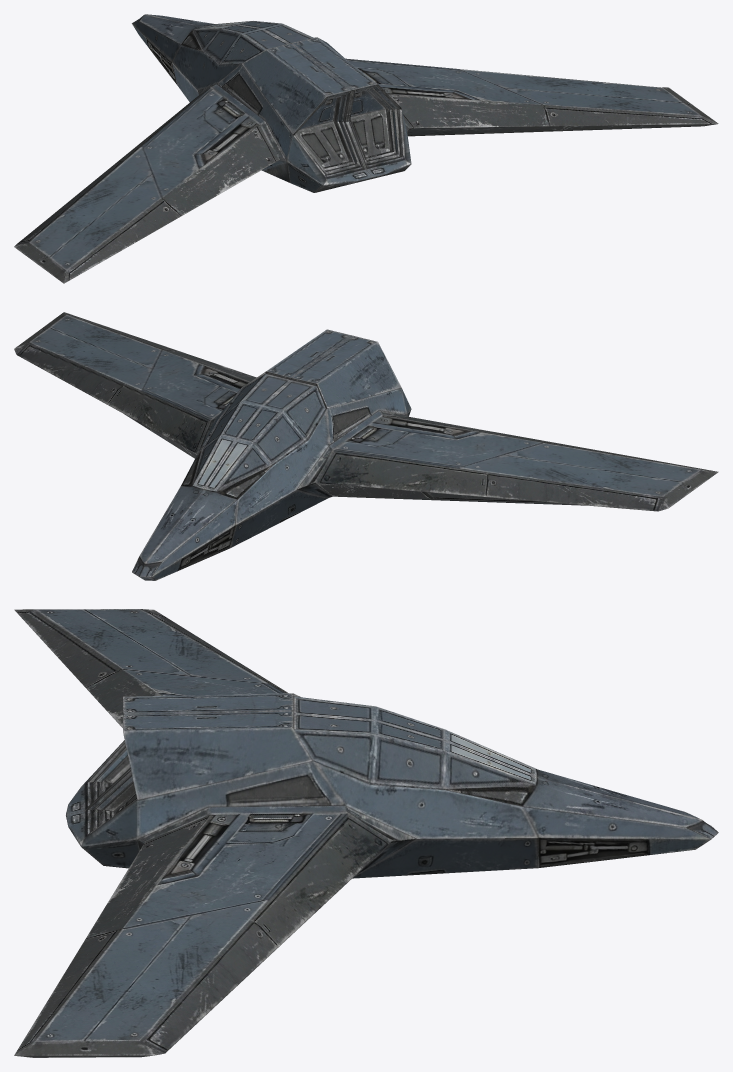
The picture shows the model from 3 angles, top to bottom: view 1: azimuth 30°, elevation 25°; view 2: azimuth 150°, elevation 25°; view 3: azimuth 270°, elevation 25°; orthographic projection. The views are drawn at different scales.
Parts seen in each view (by area): view 1: starfighter; view 2: starfighter; view 3: starfighter.
Boxes of the visible parts, x1,y1,x2,y2 form: starfighter: [14, 14, 718, 283]; starfighter: [14, 312, 718, 580]; starfighter: [14, 609, 718, 1057].
Bounding box in the file's own units: 21.16 × 3.15 × 14.13.
1 material, 1 textured.
